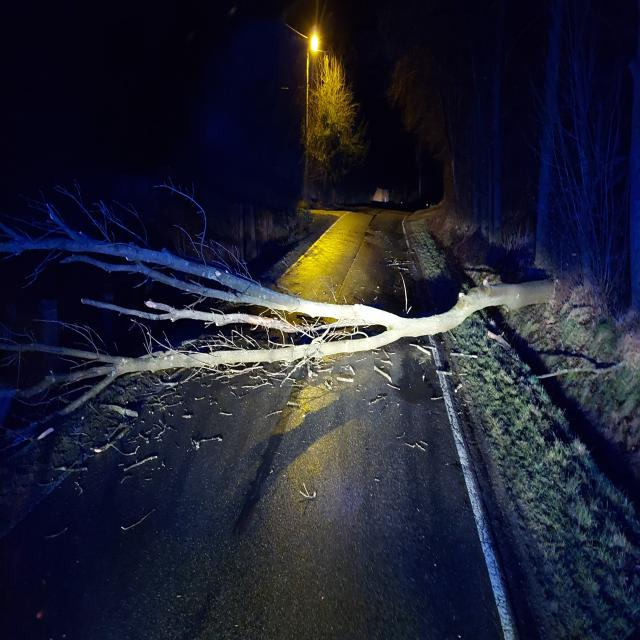fallen_tree: (0, 285, 478, 388), (478, 273, 568, 313)
